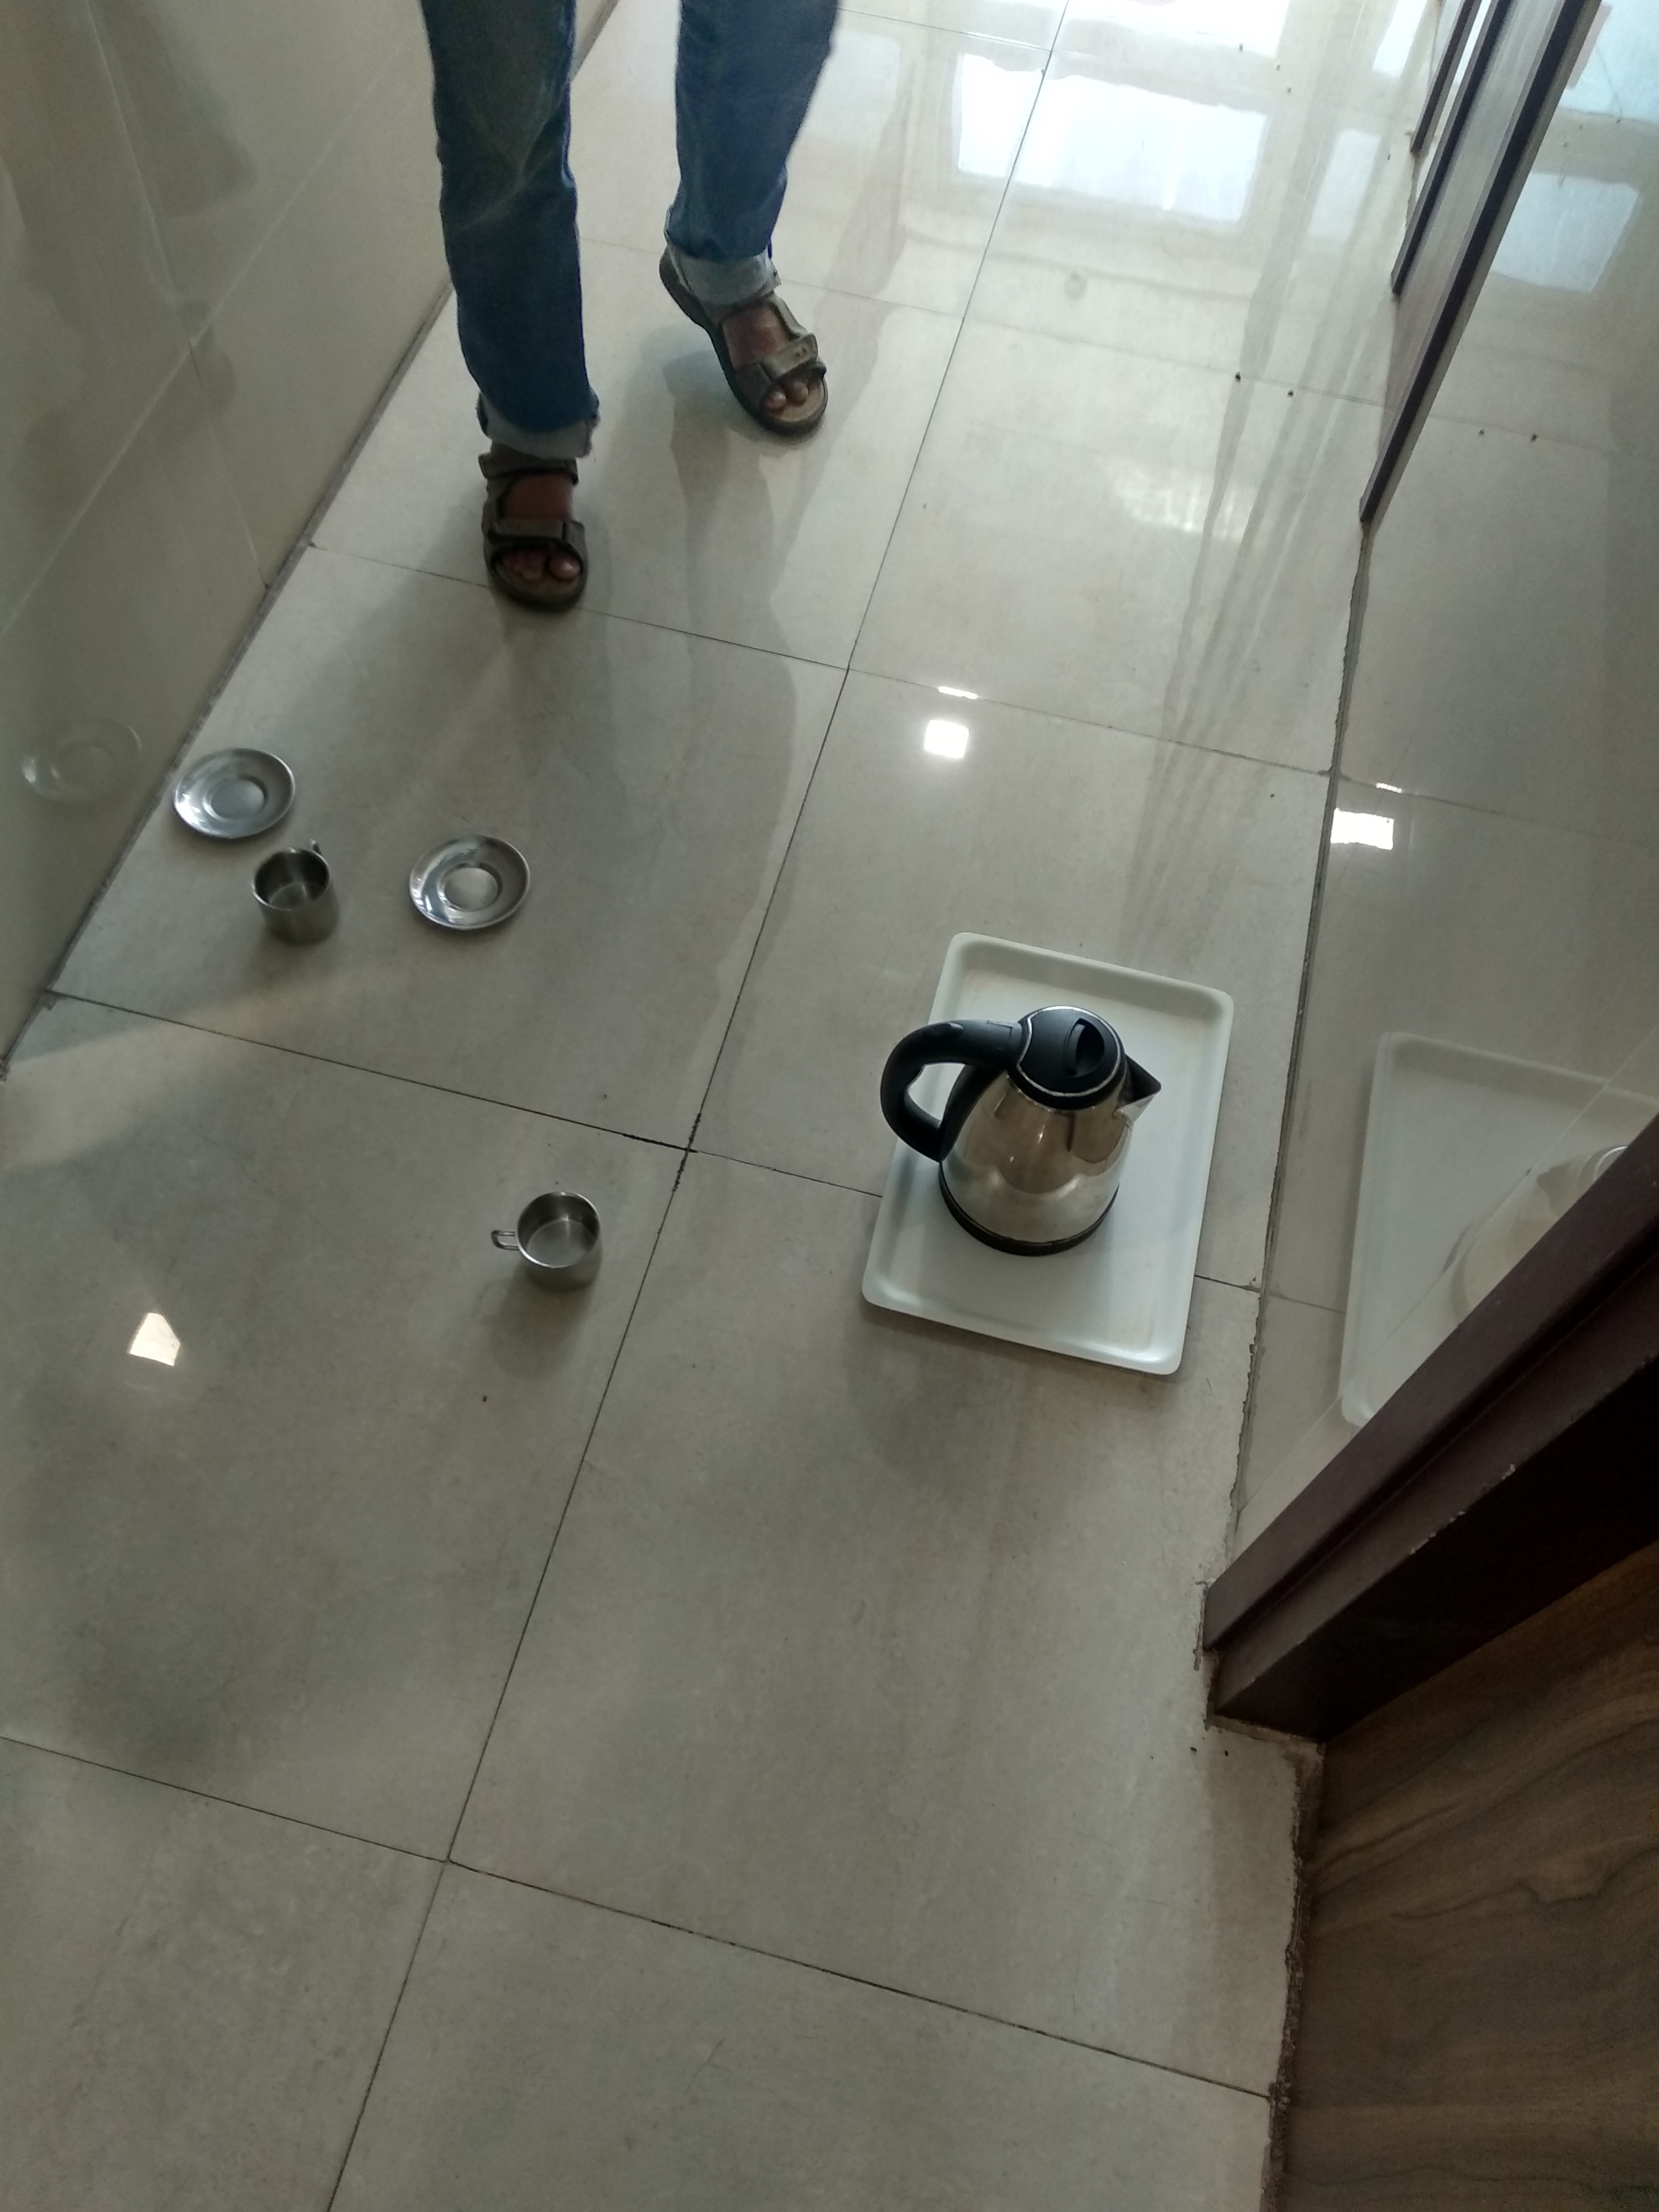CUP: (260, 864, 340, 960), (512, 1205, 610, 1278)
FLASK: (934, 993, 1159, 1247)
